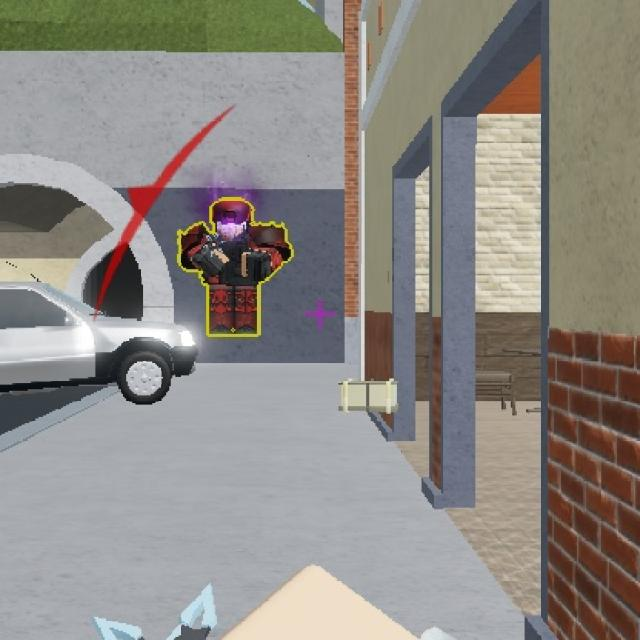player: (191, 192, 274, 342)
